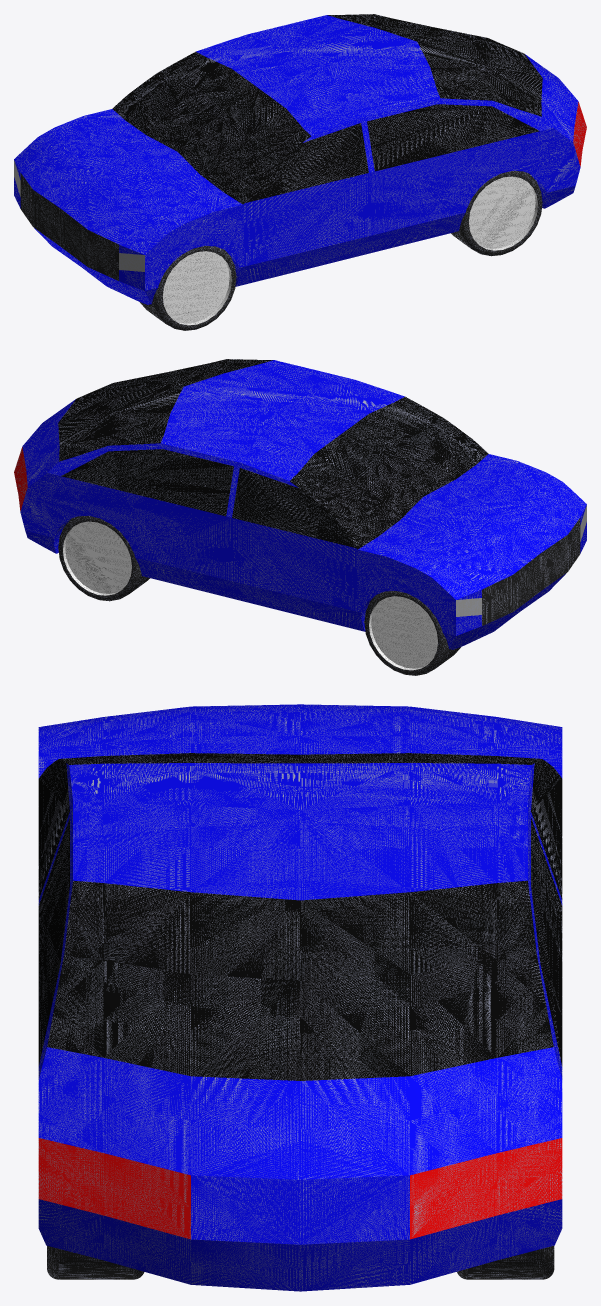
The picture shows the model from 3 angles, top to bottom: view 1: azimuth 30°, elevation 25°; view 2: azimuth 150°, elevation 25°; view 3: azimuth 270°, elevation 25°; orthographic projection. The views are drawn at different scales.
Visible parts, largest first — view 1: SketchUp (×6), group_6 (×2), group_1 (×2), group_4 (×2), group_5 (×2); view 2: SketchUp (×6), group_0 (×2), group_1 (×2), group_2 (×2), group_3 (×2); view 3: SketchUp (×6), group_1 (×2), group_0, group_6, group_3, group_5.
Boxes of the visible parts, <box> form: SketchUp (×6): <box>14,15,586,304</box>; group_6 (×2): <box>244,123,368,282</box>; group_1 (×2): <box>327,14,578,141</box>; group_4 (×2): <box>140,246,236,330</box>; group_5 (×2): <box>451,171,542,256</box>; SketchUp (×6): <box>14,360,586,649</box>; group_0 (×2): <box>232,468,356,627</box>; group_1 (×2): <box>22,359,273,486</box>; group_2 (×2): <box>364,591,460,675</box>; group_3 (×2): <box>58,516,149,601</box>; SketchUp (×6): <box>38,704,562,1291</box>; group_1 (×2): <box>38,880,562,1179</box>; group_0: <box>531,759,562,899</box>; group_6: <box>38,759,69,899</box>; group_3: <box>457,1246,554,1279</box>; group_5: <box>47,1246,144,1279</box>.
Size of the model in its own units: 990 by 443 by 325.
